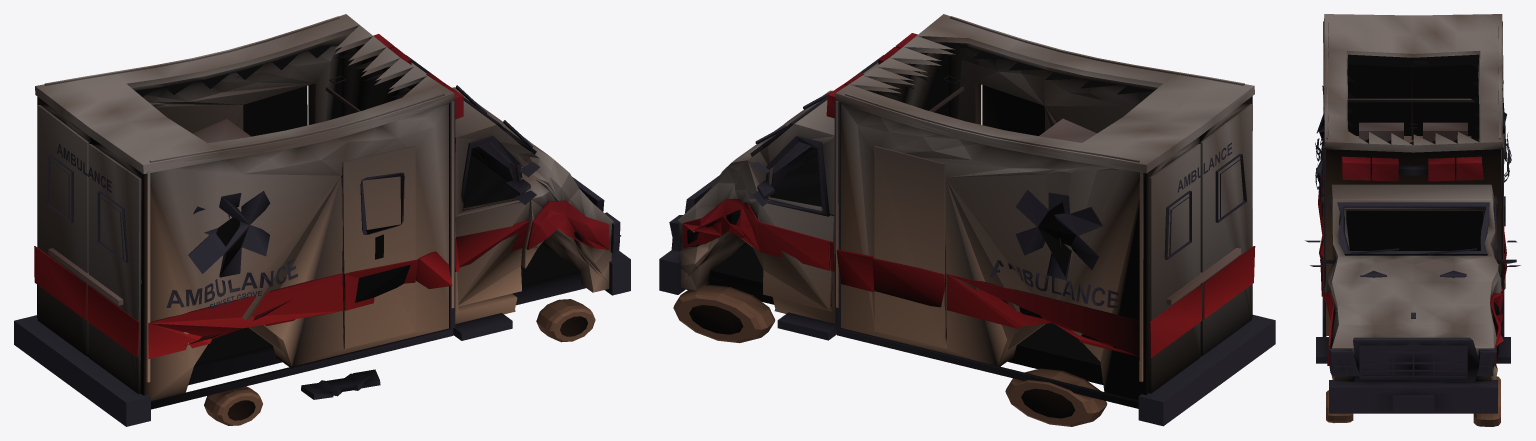
The model's file is model.burned.glb.
The picture shows the model from 3 angles, left to right: view 1: azimuth 30°, elevation 25°; view 2: azimuth 150°, elevation 25°; view 3: azimuth 270°, elevation 25°; orthographic projection. The views are drawn at different scales.
Parts seen in each view (by area): view 1: body_pal_picketWhite, body_pal_uiDark, body_pal_survivorRed, wheelFL_pal_sidewalk, body_pal_sidewalk, wheelRL_pal_sidewalk; view 2: body_pal_picketWhite, body_pal_uiDark, body_pal_survivorRed, wheelFR_pal_sidewalk, wheelRR_pal_sidewalk, body_pal_sidewalk; view 3: body_pal_picketWhite, body_pal_uiDark, body_pal_survivorRed, body_pal_sidewalk, wheelFR_pal_sidewalk, wheelFL_pal_sidewalk.
Part boxes in pixels (left/top/right/bottom): body_pal_picketWhite: left=35, top=14, right=613, bottom=401; body_pal_uiDark: left=14, top=55, right=630, bottom=426; body_pal_survivorRed: left=34, top=34, right=609, bottom=359; wheelFL_pal_sidewalk: left=536, top=299, right=595, bottom=342; body_pal_sidewalk: left=48, top=87, right=360, bottom=305; wheelRL_pal_sidewalk: left=204, top=386, right=262, bottom=425; body_pal_picketWhite: left=677, top=14, right=1254, bottom=400; body_pal_uiDark: left=659, top=55, right=1275, bottom=426; body_pal_survivorRed: left=682, top=33, right=1255, bottom=357; wheelFR_pal_sidewalk: left=673, top=284, right=775, bottom=343; wheelRR_pal_sidewalk: left=1005, top=368, right=1107, bottom=426; body_pal_sidewalk: left=929, top=87, right=1241, bottom=305; body_pal_picketWhite: left=1322, top=14, right=1504, bottom=381; body_pal_uiDark: left=1305, top=80, right=1520, bottom=413; body_pal_survivorRed: left=1318, top=156, right=1507, bottom=365; body_pal_sidewalk: left=1347, top=98, right=1475, bottom=142; wheelFR_pal_sidewalk: left=1473, top=376, right=1500, bottom=426; wheelFL_pal_sidewalk: left=1326, top=390, right=1353, bottom=423.
Bounding box in the file's own units: 6.21 × 3.31 × 2.79.
